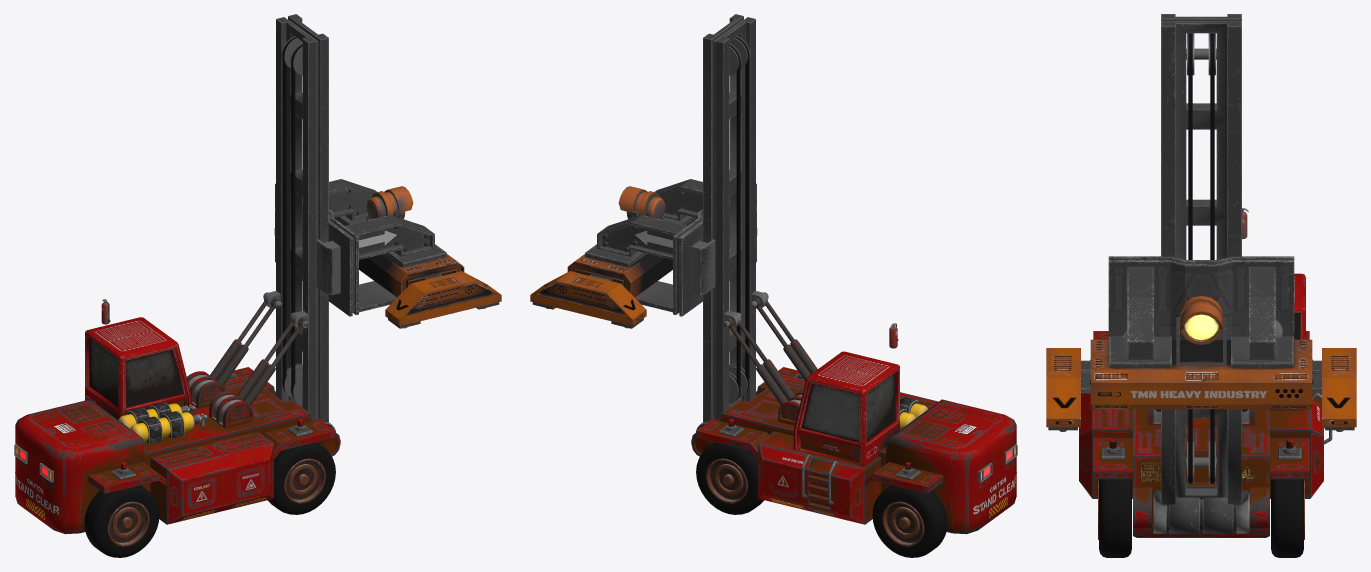
Rendered from top_loader.glb.
3 renders of one model, left to right at view 1: azimuth 30°, elevation 25°; view 2: azimuth 150°, elevation 25°; view 3: azimuth 270°, elevation 25°, orthographic. The views are drawn at different scales.
Visible parts, largest first — view 1: Cube.009_loader4_0, Cube.005_loader2_0, Cube.010_loader3_0, Cylinder.003_loader3_0, Cube.003_loader2_0, Spreader_Cube.001_loader1_0, Cylinder.008_loader1_0, Cube.012_loader3_0, Cylinder.001_loader3_0, Cylinder.004_loader4_0, Cube.002_loader1_0, Cube.004_loader2_0 (+4 smaller); view 2: Cube.009_loader4_0, Cube.005_loader2_0, Cube.010_loader3_0, Cylinder.003_loader3_0, Cube.003_loader2_0, Spreader_Cube.001_loader1_0, Cylinder.008_loader1_0, Cube.012_loader3_0, Cylinder.001_loader3_0, Cube.002_loader1_0, Cube.004_loader2_0, Cube.011_loader5_0 (+2 smaller); view 3: Cube.005_loader2_0, Cube.009_loader4_0, Cube.002_loader1_0, Cube.004_loader2_0, Cube.003_loader2_0, Spreader_Cube.001_loader1_0, Cylinder.003_loader3_0, Cube.012_loader3_0, Cylinder.008_loader1_0, Cylinder.006_loader2_0, Cylinder_loader5_0, Cube.010_loader3_0 (+3 smaller).
Boxes of the visible parts, x1,y1,x2,y2 form: Cube.009_loader4_0: (15,374,340,534); Cube.005_loader2_0: (276,14,335,431); Cube.010_loader3_0: (85,317,191,419); Cylinder.003_loader3_0: (15,442,335,557); Cube.003_loader2_0: (329,179,446,312); Spreader_Cube.001_loader1_0: (274,228,501,326); Cylinder.008_loader1_0: (282,37,302,400); Cube.012_loader3_0: (88,367,335,493); Cylinder.001_loader3_0: (209,292,307,405); Cylinder.004_loader4_0: (118,402,207,443); Cube.002_loader1_0: (334,218,464,297); Cube.004_loader2_0: (275,183,358,316); Cube.009_loader4_0: (691,374,1016,534); Cube.005_loader2_0: (696,14,755,431); Cube.010_loader3_0: (793,351,899,466); Cylinder.003_loader3_0: (696,442,1016,557); Cube.003_loader2_0: (585,179,702,312); Spreader_Cube.001_loader1_0: (530,228,757,326); Cylinder.008_loader1_0: (729,37,749,400); Cube.012_loader3_0: (696,367,943,493); Cylinder.001_loader3_0: (724,292,817,405); Cube.002_loader1_0: (567,218,697,297); Cube.004_loader2_0: (673,183,756,316); Cube.011_loader5_0: (691,208,756,294); Cube.005_loader2_0: (1152,14,1250,533); Cube.009_loader4_0: (1079,393,1323,537); Cube.002_loader1_0: (1090,339,1312,409); Cube.004_loader2_0: (1108,256,1294,339); Cube.003_loader2_0: (1109,267,1293,367); Spreader_Cube.001_loader1_0: (1046,348,1356,427); Cylinder.003_loader3_0: (1098,479,1304,557); Cube.012_loader3_0: (1093,331,1309,479); Cylinder.008_loader1_0: (1188,33,1214,483); Cylinder.006_loader2_0: (1180,295,1222,344); Cylinder_loader5_0: (1186,33,1216,483); Cube.010_loader3_0: (1270,273,1305,410).
Bounding box in the file's own units: 11.39 × 12 × 6.06.
Materials: 5 (5 with a texture image).
